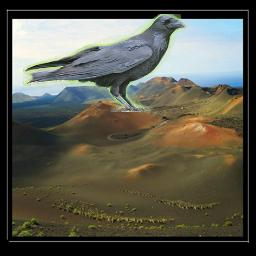Crow: (23, 14, 187, 112)
